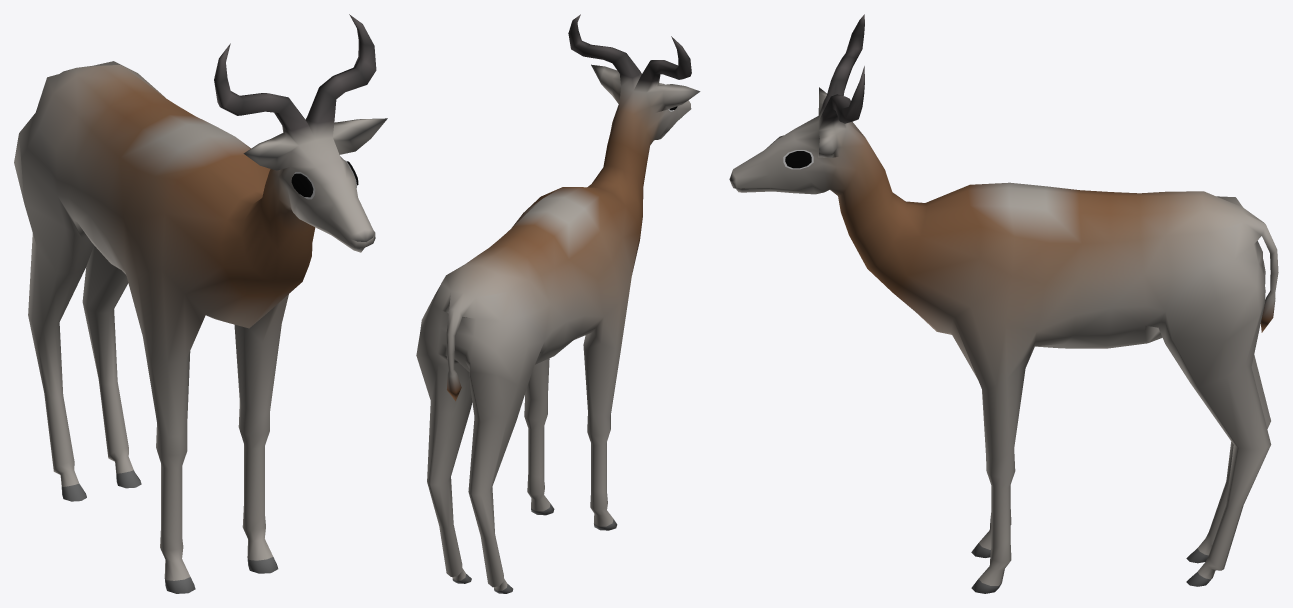
File: AddraGazelle.gltf
The picture shows the model from 3 angles, left to right: view 1: azimuth 30°, elevation 25°; view 2: azimuth 150°, elevation 25°; view 3: azimuth 270°, elevation 25°; orthographic projection. The views are drawn at different scales.
Parts seen in each view (by area): view 1: base.053; view 2: base.053; view 3: base.053.
Boxes of the visible parts, x1=… form: base.053: x1=14, y1=14, x2=387, y2=593; base.053: x1=416, y1=14, x2=700, y2=593; base.053: x1=729, y1=14, x2=1278, y2=593.
Bounding box in the file's own units: 0.4949 × 1.79 × 1.68.
